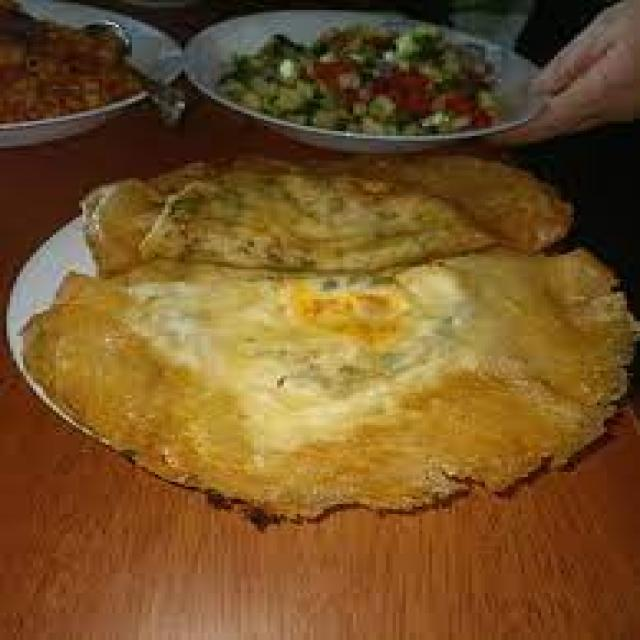brik: (60, 229, 628, 527), (58, 138, 612, 277)
